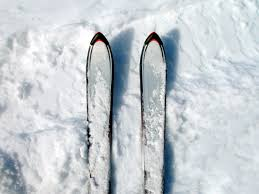skis: (84, 31, 169, 194)
